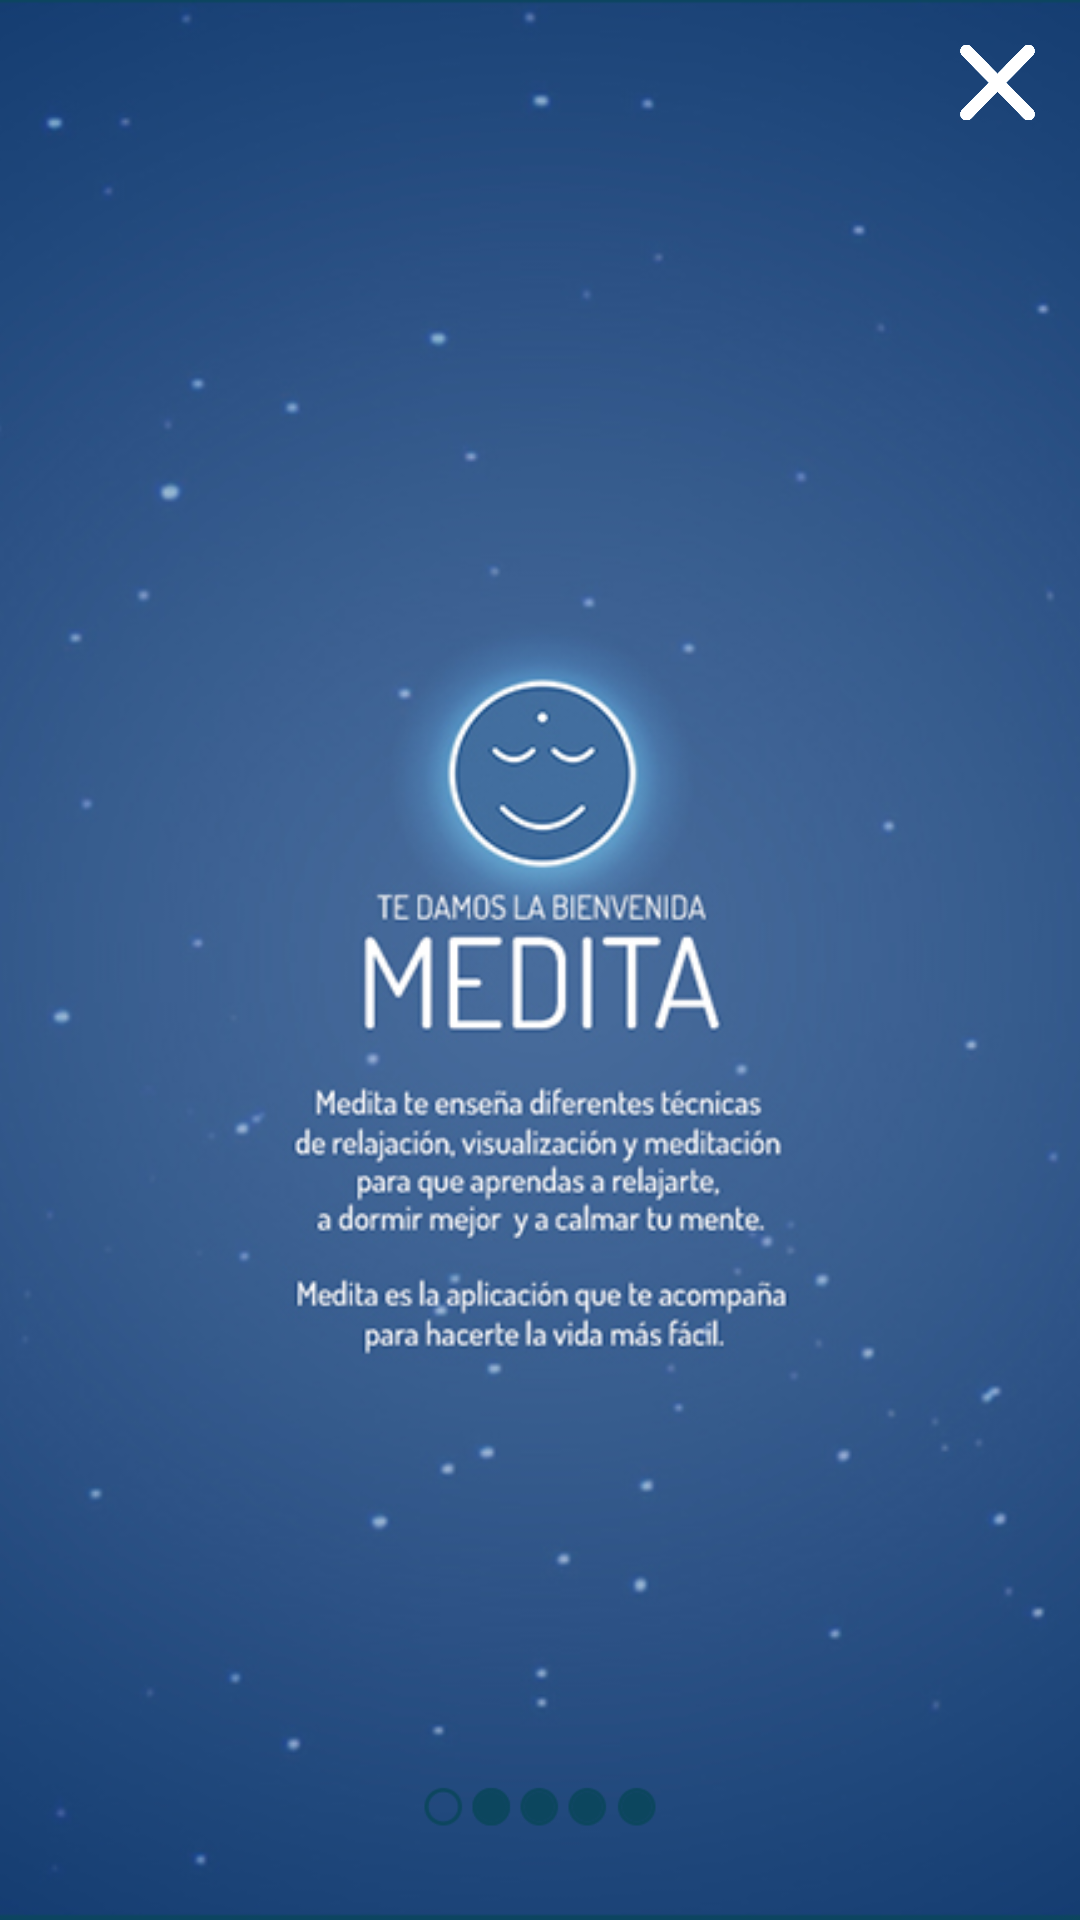

Screen size 1080×1920. Icon name, then its box in pixels as [x1,y1,x2,y2]:
close tuto: [960,45,1035,120]
